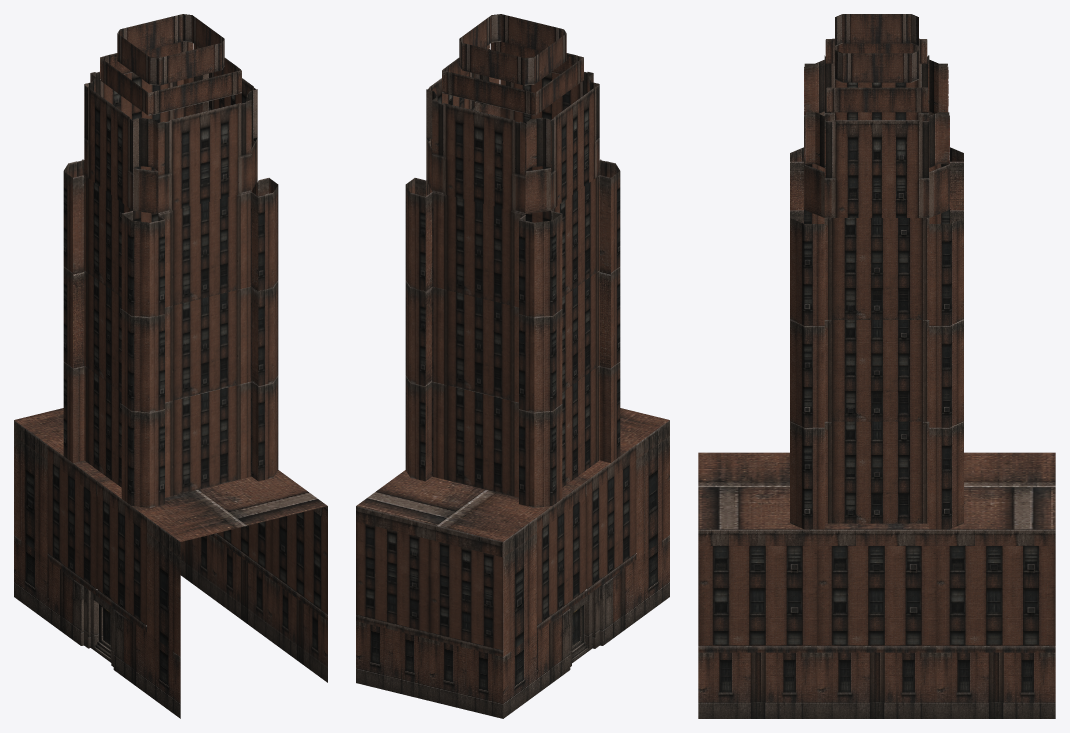
The picture shows the model from 3 angles, left to right: view 1: azimuth 30°, elevation 25°; view 2: azimuth 150°, elevation 25°; view 3: azimuth 270°, elevation 25°; orthographic projection. The views are drawn at different scales.
Parts seen in each view (by area): view 1: B011; view 2: B011; view 3: B011.
Part boxes in pixels (left/top/right/bottom): B011: left=14, top=14, right=327, bottom=718; B011: left=356, top=14, right=669, bottom=718; B011: left=698, top=14, right=1055, bottom=718.
Bounding box in the file's own units: 3.6 × 14.12 × 7.06.
1 material, 1 textured.
